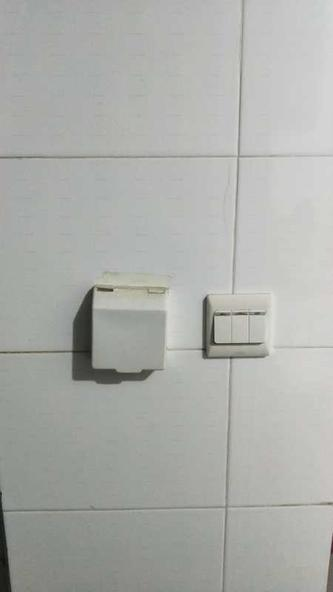switch: (214, 311, 232, 344), (239, 308, 251, 349), (258, 311, 267, 349)
